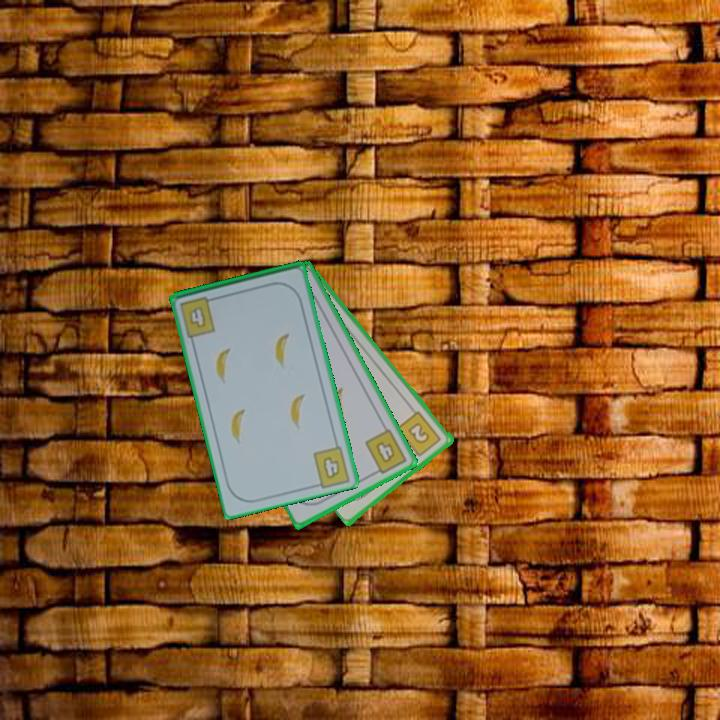2b: (394, 408, 444, 462)
4b: (361, 425, 410, 478), (176, 293, 220, 340), (320, 453, 343, 482)
